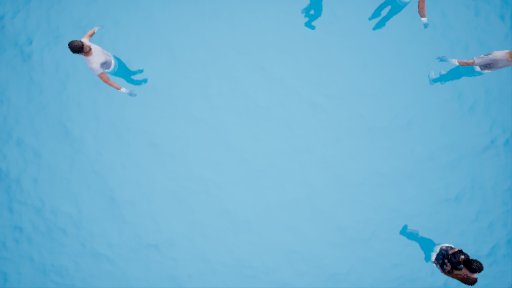person: (70, 28, 158, 102), (397, 223, 498, 286), (421, 43, 511, 90)
